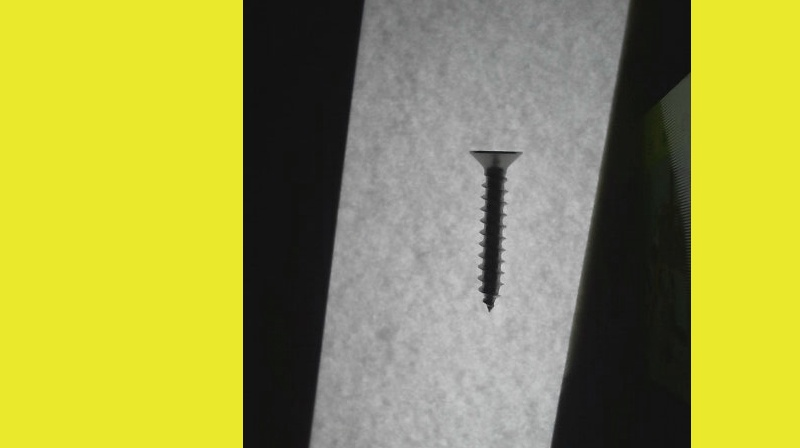S001: (465, 147, 524, 315)
